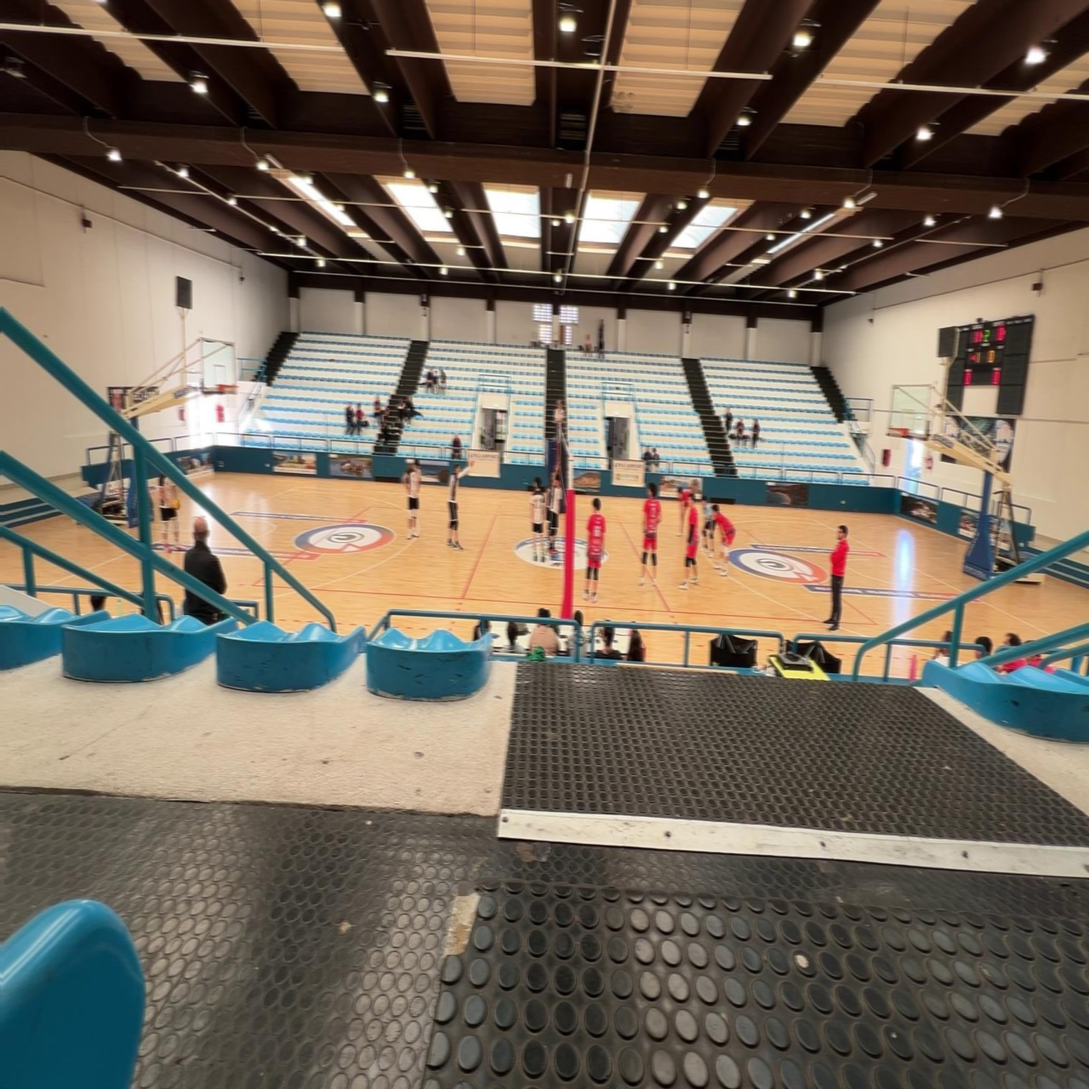ball: (172, 499, 180, 510)
